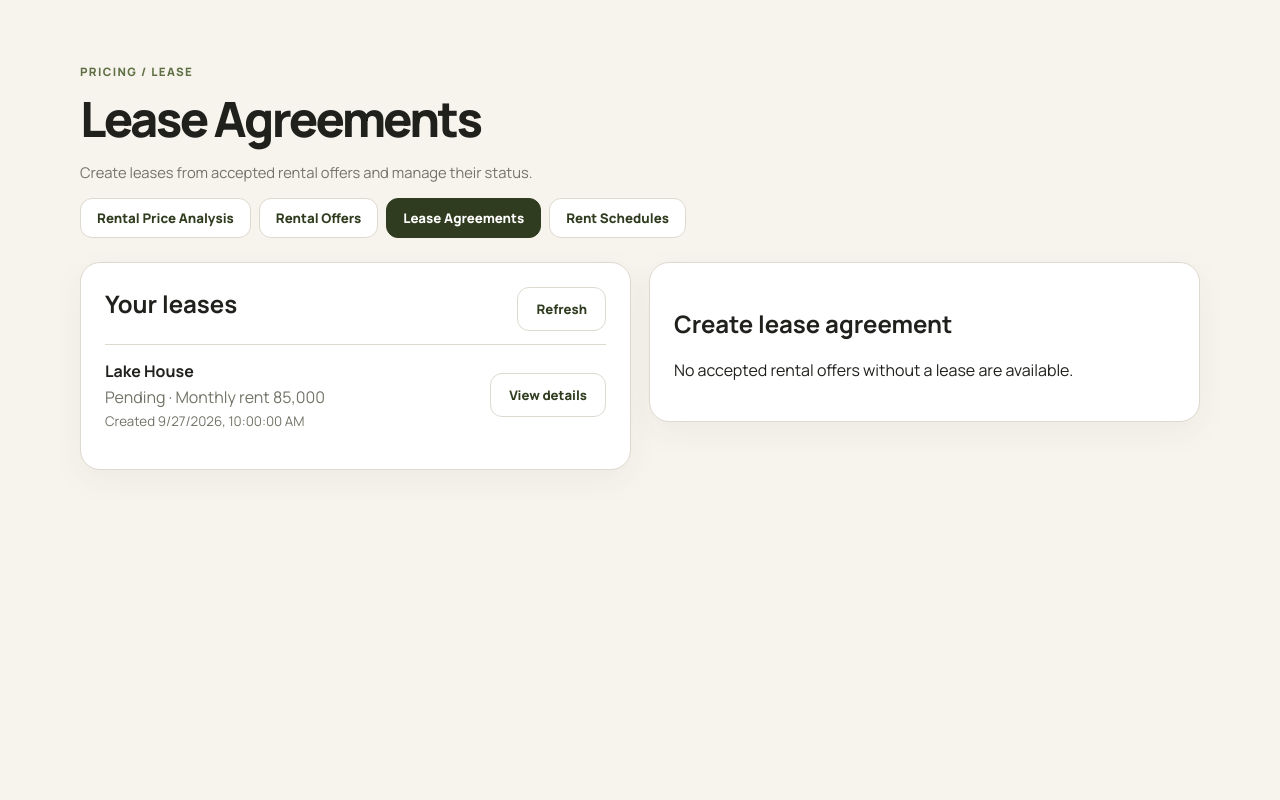
Test: landlord lease agreements › renders leases and opens details
Check: the text "Pending · Monthly rent 85,000" is shown, box [105,386,325,408]
Click the button "View details".
click(548, 395)  # box [490,373,606,417]
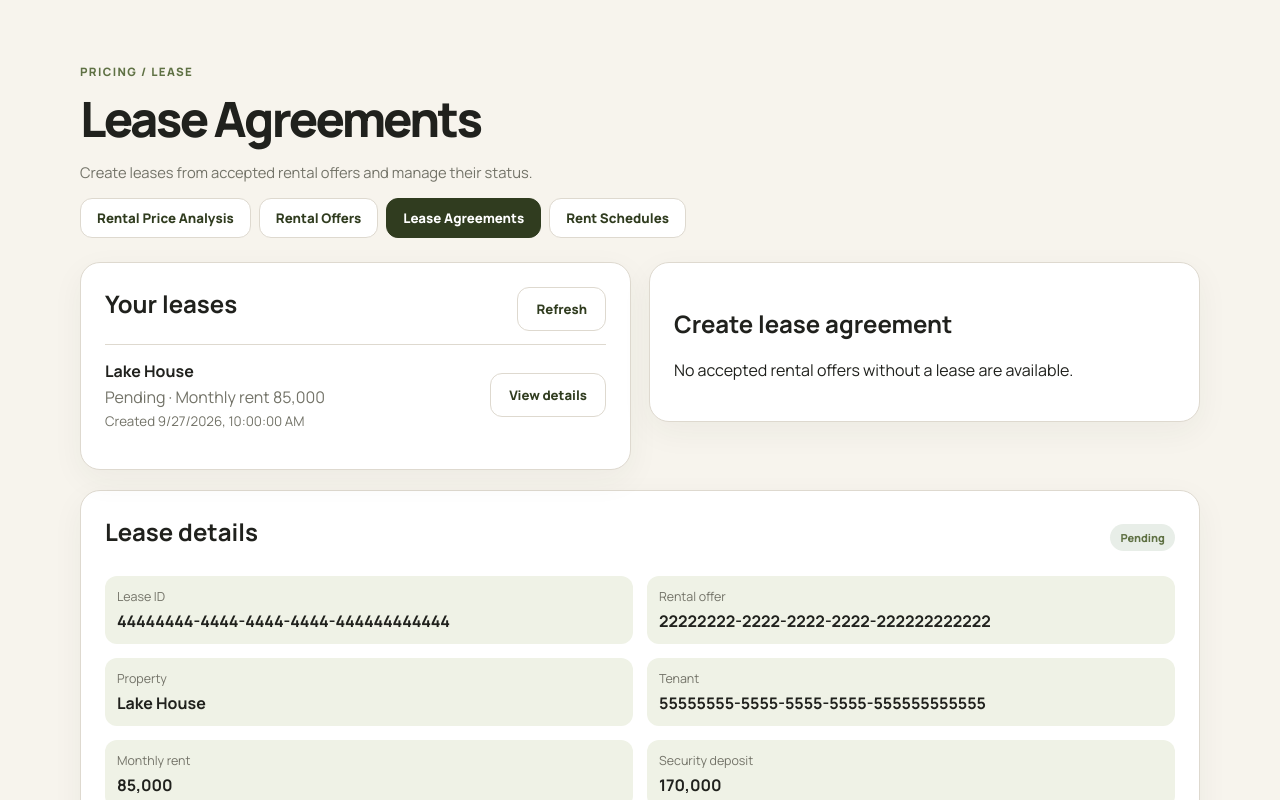
Check: the text "170,000" is shown, box [659,774,722,796]
